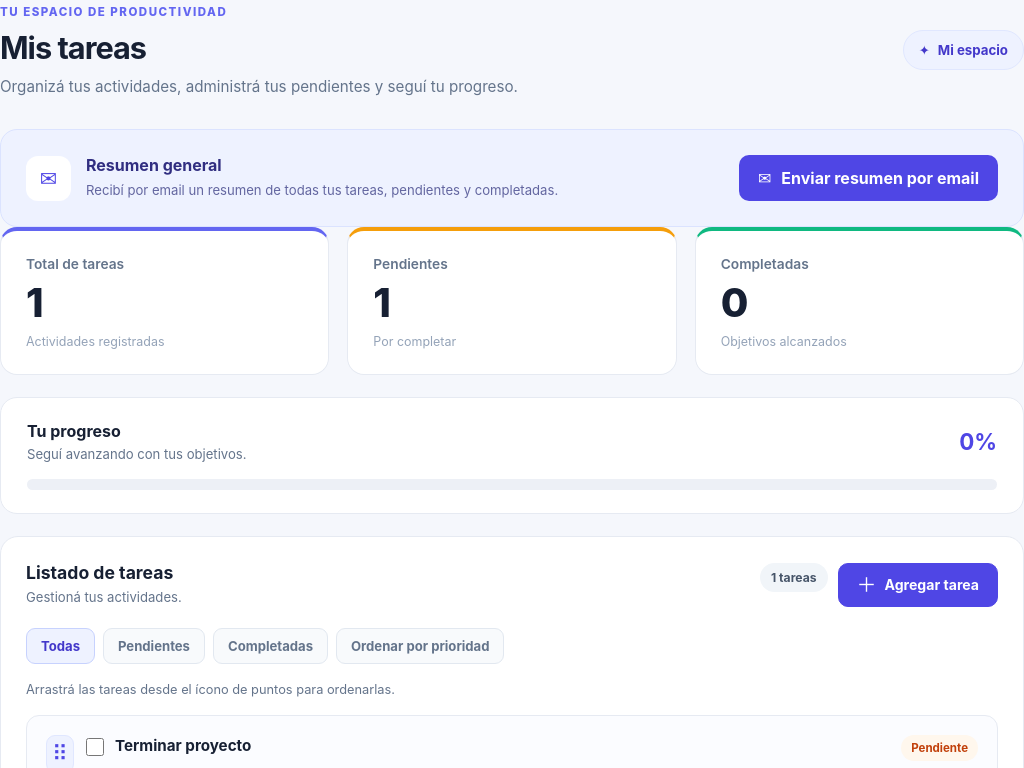
Test: TasksPage › marca una tarea pendiente como completada
Click the checkbox at coordinates (95, 747), box [86,738,104,756]
(page scrolled)
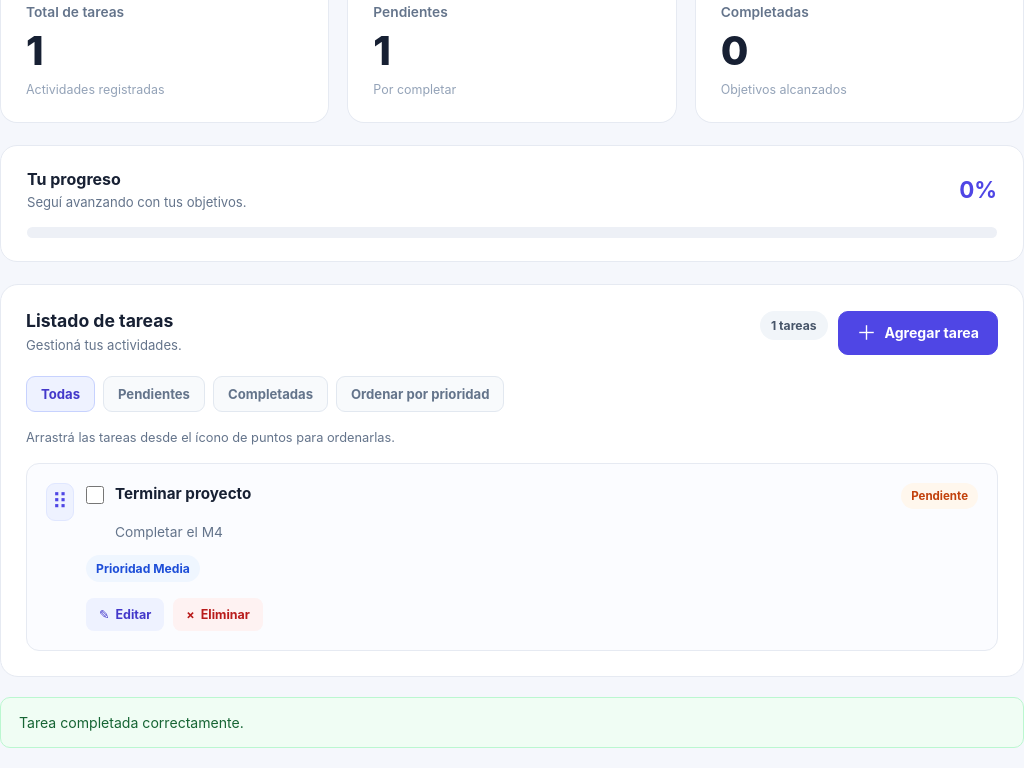
expect the text "Tarea completada correctamente." is shown: met, box [0,697,1023,748]
